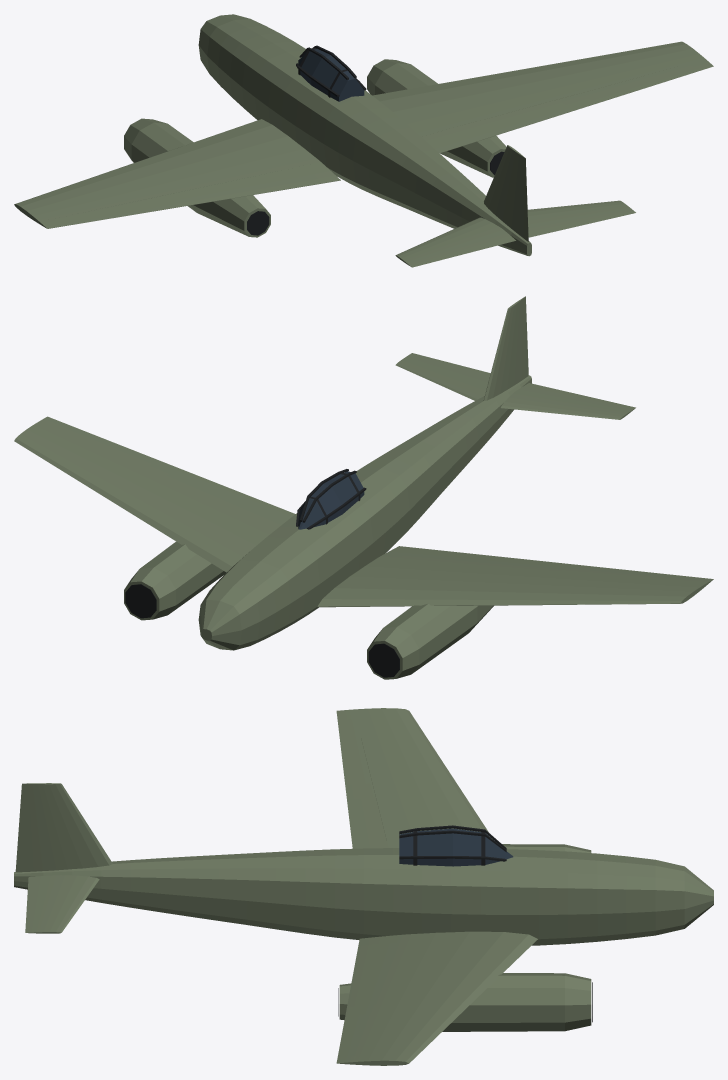
The picture shows the model from 3 angles, top to bottom: view 1: azimuth 30°, elevation 25°; view 2: azimuth 150°, elevation 25°; view 3: azimuth 270°, elevation 25°; orthographic projection. The views are drawn at different scales.
Visible parts, largest first — view 1: Fuselage, Wing L, Wing R, Nacelles, Flap R, Flap L, Cockpit Glass, Stabilizer L, Vertical Fin, Aileron R, Stabilizer R, Aileron L (+5 smaller); view 2: Fuselage, Wing L, Wing R, Nacelles, Stabilizer L, Flap R, Vertical Fin, Cockpit Glass, Flap L, Stabilizer R, Aileron R, Canopy Frame (+6 smaller); view 3: Fuselage, Wing R, Wing L, Nacelles, Vertical Fin, Cockpit Glass, Rudder, Flap R, Stabilizer R, Flap L, Aileron L, Canopy Frame (+2 smaller).
Part boxes in pixels (bbox=[...]): Fuselage: bbox=[198, 14, 531, 256]; Wing L: bbox=[14, 119, 340, 228]; Wing R: bbox=[372, 41, 713, 136]; Nacelles: bbox=[124, 59, 506, 237]; Flap R: bbox=[421, 99, 571, 153]; Flap L: bbox=[166, 166, 323, 206]; Cockpit Glass: bbox=[298, 48, 364, 101]; Stabilizer L: bbox=[395, 217, 504, 263]; Vertical Fin: bbox=[484, 145, 519, 227]; Aileron R: bbox=[582, 63, 697, 104]; Stabilizer R: bbox=[527, 200, 630, 225]; Aileron L: bbox=[54, 199, 158, 226]; Fuselage: bbox=[198, 375, 531, 650]; Wing L: bbox=[317, 546, 713, 607]; Wing R: bbox=[14, 416, 280, 572]; Nacelles: bbox=[124, 541, 493, 679]; Stabilizer L: bbox=[501, 390, 630, 419]; Flap R: bbox=[166, 468, 295, 525]; Vertical Fin: bbox=[483, 301, 519, 400]; Cockpit Glass: bbox=[298, 471, 364, 529]; Flap L: bbox=[399, 548, 571, 571]; Stabilizer R: bbox=[395, 356, 488, 400]; Aileron R: bbox=[54, 422, 158, 467]; Canopy Frame: bbox=[296, 469, 366, 529]; Fuselage: bbox=[14, 848, 713, 945]; Wing R: bbox=[336, 931, 537, 1065]; Wing L: bbox=[336, 708, 492, 847]; Nacelles: bbox=[339, 844, 591, 1031]; Vertical Fin: bbox=[36, 783, 112, 870]; Cockpit Glass: bbox=[399, 828, 513, 866]; Rudder: bbox=[15, 783, 51, 872]; Flap R: bbox=[347, 942, 399, 1007]; Stabilizer R: bbox=[37, 875, 99, 933]; Flap L: bbox=[347, 797, 388, 848]; Aileron L: bbox=[337, 719, 372, 785]; Canopy Frame: bbox=[399, 825, 506, 865].
Size of the model in its own units: 12.6 by 3.02 by 10.57.
